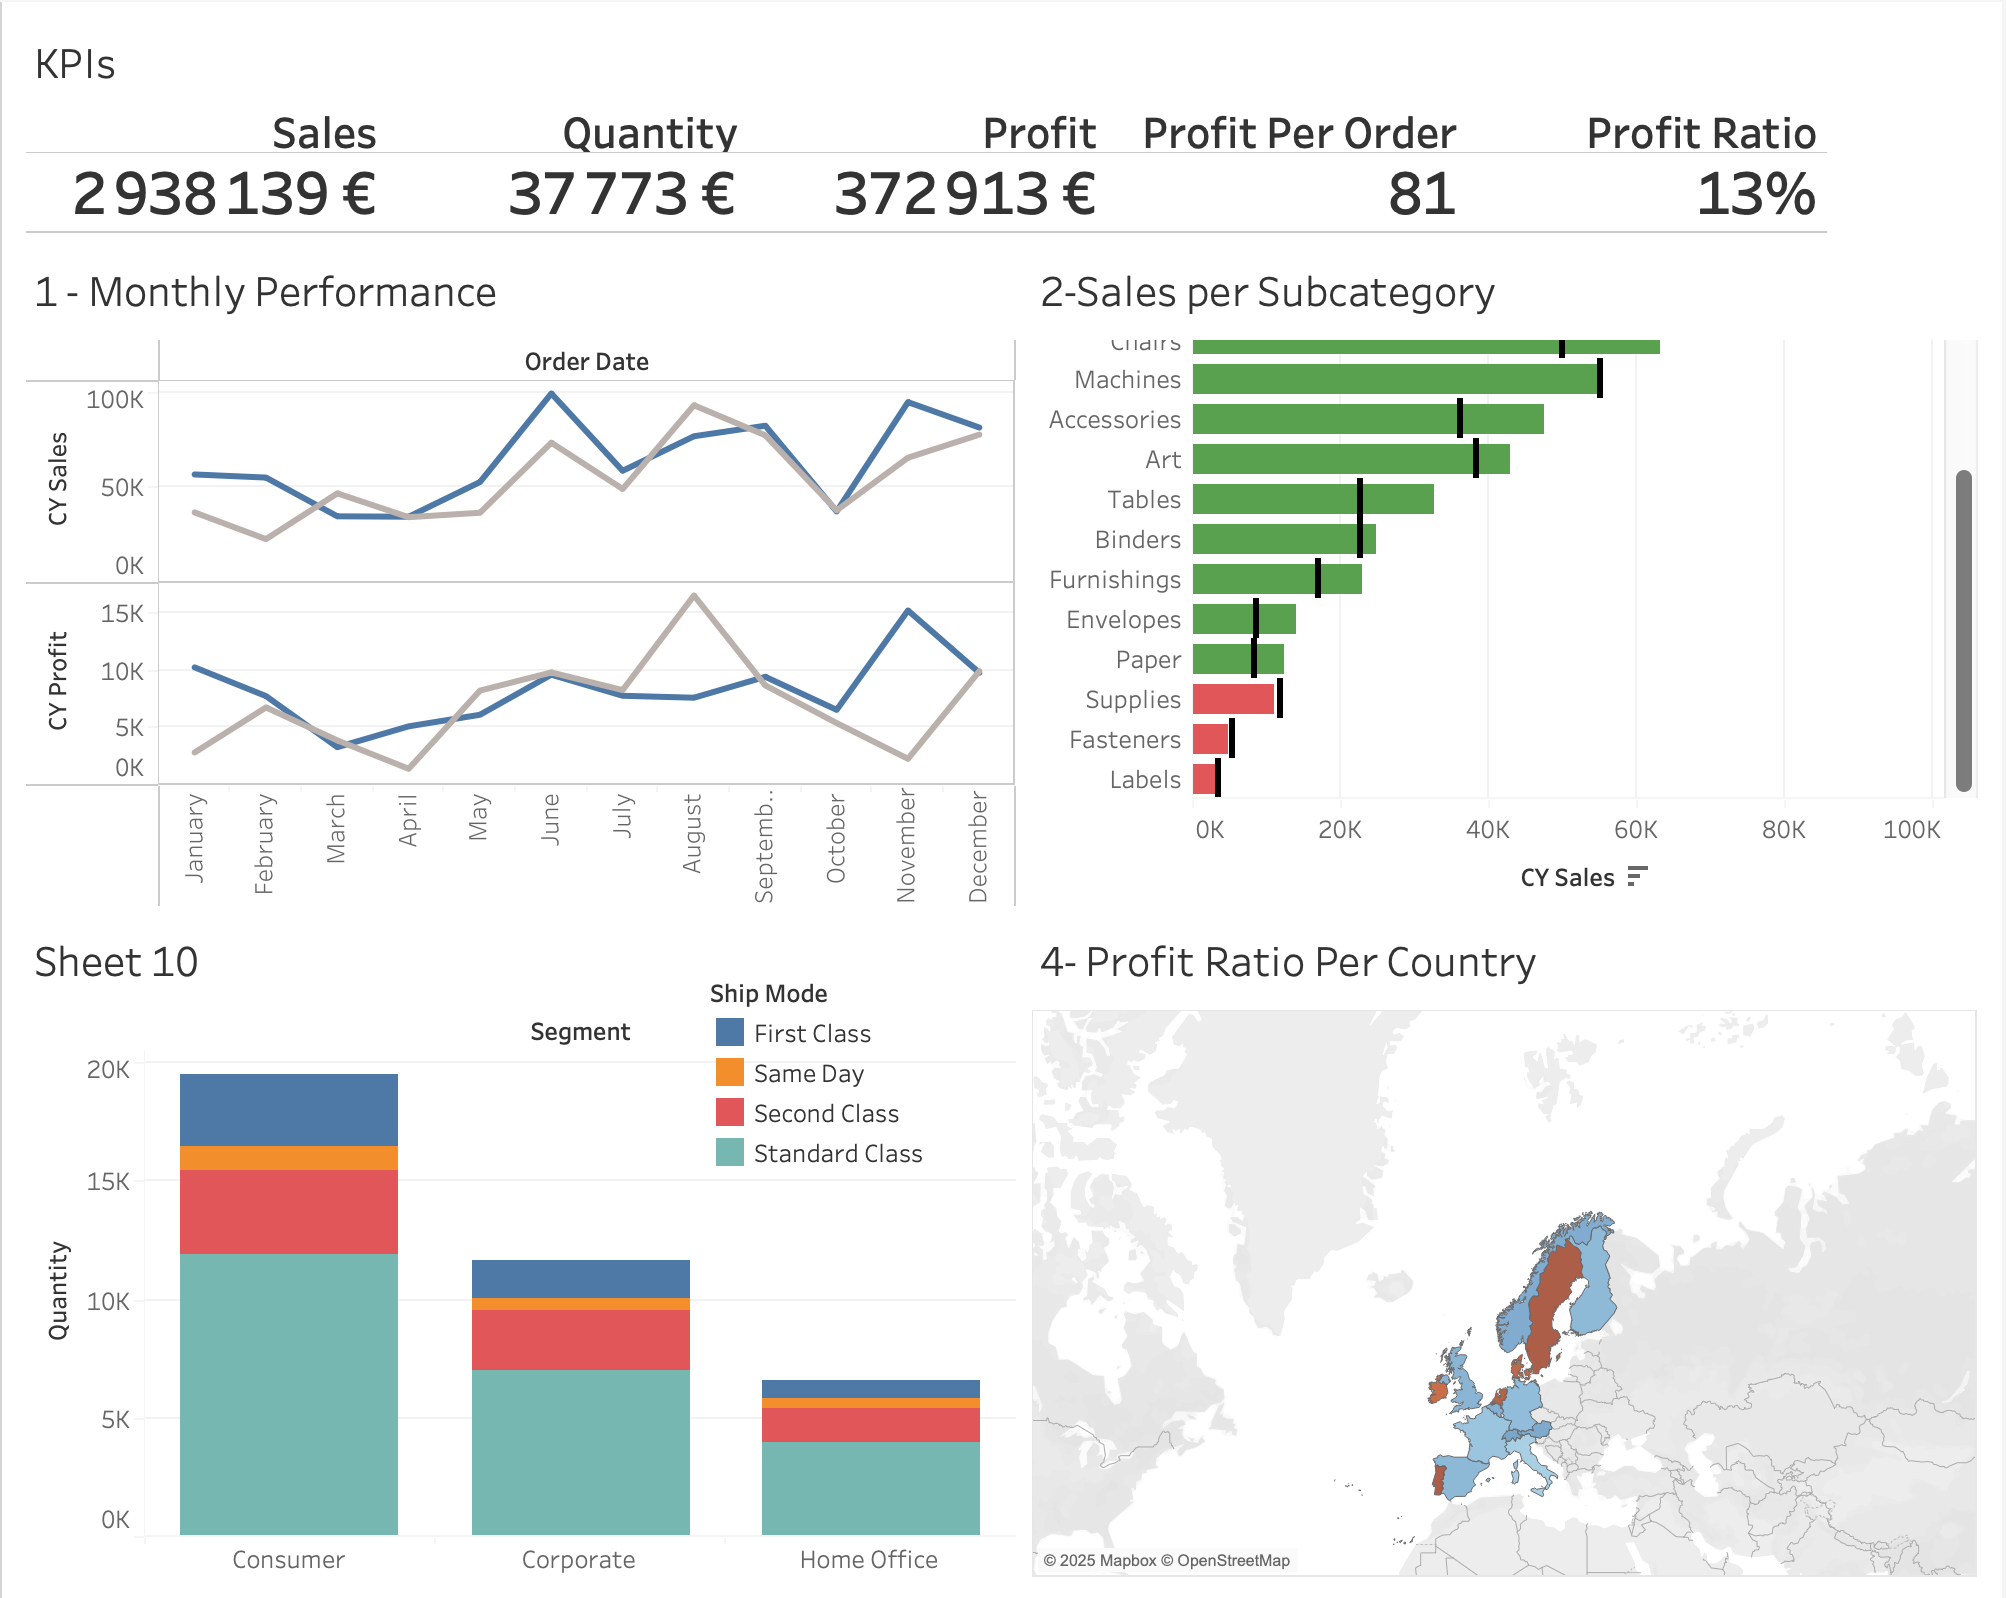

Layout of this report page (visuals, bound fields, positions):
{"tool":"tableau","page":{"name":"Dashboard 2","canvas":[1000,800],"ordinal":1},"visuals":[{"type":"worksheet","title":"KPIs","mark":"Automatic","box":[8,8,984,114]},{"type":"worksheet","title":"1 - Monthly Performance","mark":"Automatic","rows":["Calculation_2703989429865979906","Calculation_2703989429866229763","Calculation_2703989429876350980","Calculation_2703989429876604933"],"cols":["Order Date"],"box":[8,122,503,335]},{"type":"worksheet","title":"2-Sales per Subcategory","mark":"Automatic","rows":["Sub-Category (Category)"],"cols":["Calculation_2703989429865979906"],"box":[511,122,481,335]},{"type":"worksheet","title":"Sheet 10","mark":"Automatic","rows":["Quantity"],"cols":["Segment"],"box":[8,457,503,335]},{"type":"worksheet","title":"4- Profit Ratio Per Country","mark":"Automatic","box":[511,457,481,335]},{"type":"legend","title":"Sheet 10","param":"[federated.08kdxyn1b5z4ll1fxz5k60clixa7].[none:Ship Mode:nk]","box":[354,487,140,98]}]}

Visuals, with their boxes in screenshot pixels (x1, y1, x2, y2), scaled from the page's 1000x800 canvas onto the 2006x1598 screenshot:
"KPIs" worksheet: (left=16, top=16, right=1990, bottom=244)
"1 - Monthly Performance" worksheet: (left=16, top=244, right=1025, bottom=913)
"2-Sales per Subcategory" worksheet: (left=1025, top=244, right=1990, bottom=913)
"Sheet 10" worksheet: (left=16, top=913, right=1025, bottom=1582)
"4- Profit Ratio Per Country" worksheet: (left=1025, top=913, right=1990, bottom=1582)
"Sheet 10" legend: (left=710, top=973, right=991, bottom=1169)
